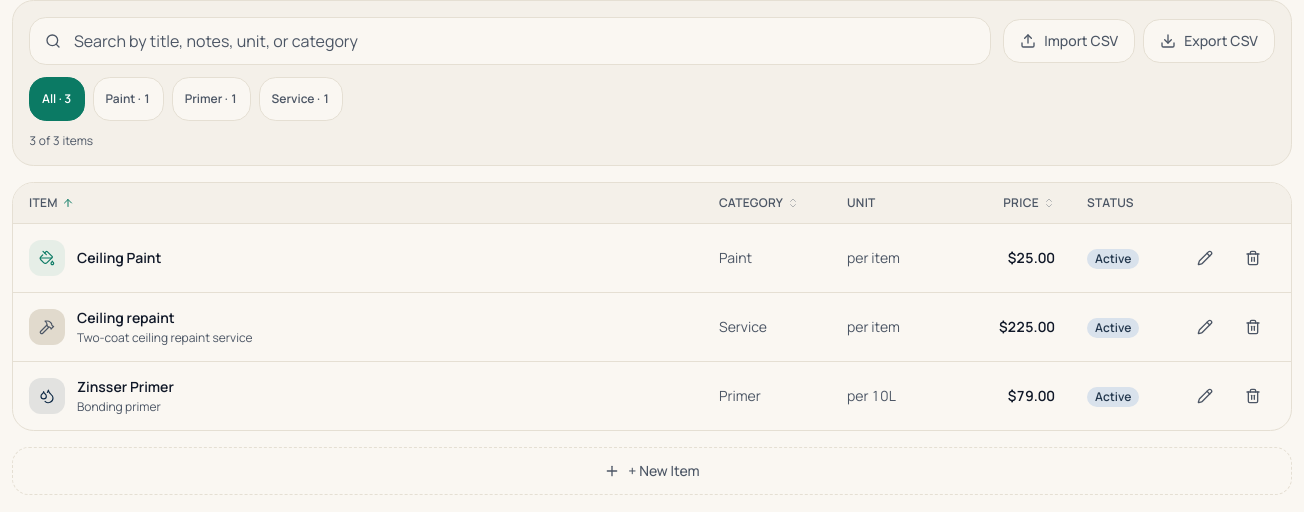
MaterialItemList › filters items by category button and search query
Expected: the text "3 of 3 items" is shown, left=29, top=132, right=93, bottom=149
Click the button "Service · 1" at [301, 99], box left=259, top=77, right=343, bottom=121
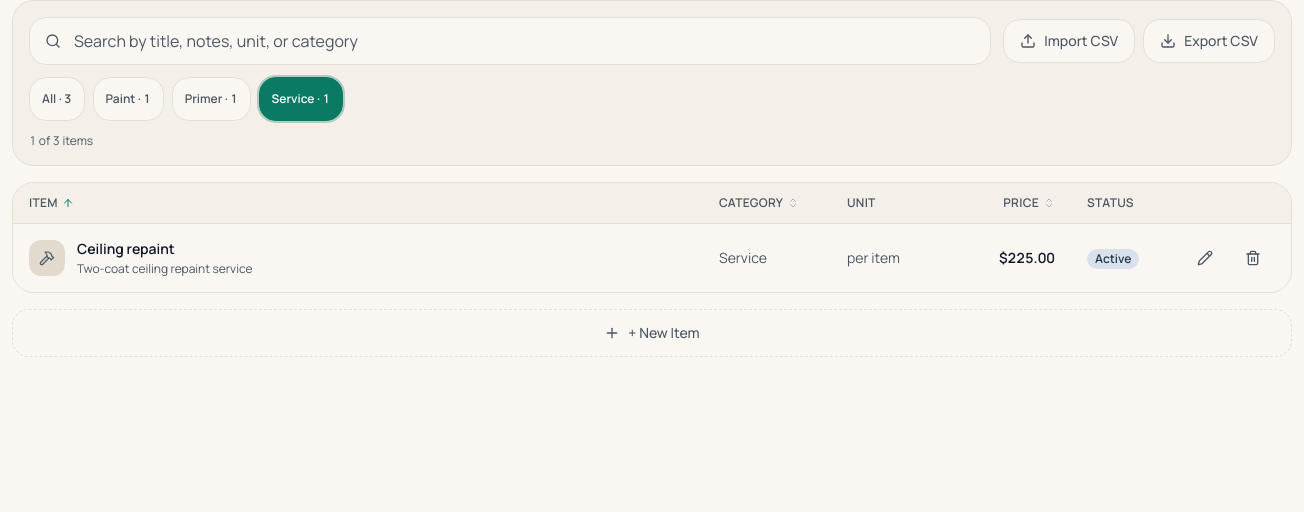
Expected: the text "Ceiling repaint" is shown, left=77, top=239, right=175, bottom=258
Now the text "1 of 3 items" is shown, box left=29, top=132, right=93, bottom=149
Now the text "Zinsser Primer" is gone
Click the button "All · 3" at [57, 99], box left=29, top=77, right=84, bottom=121
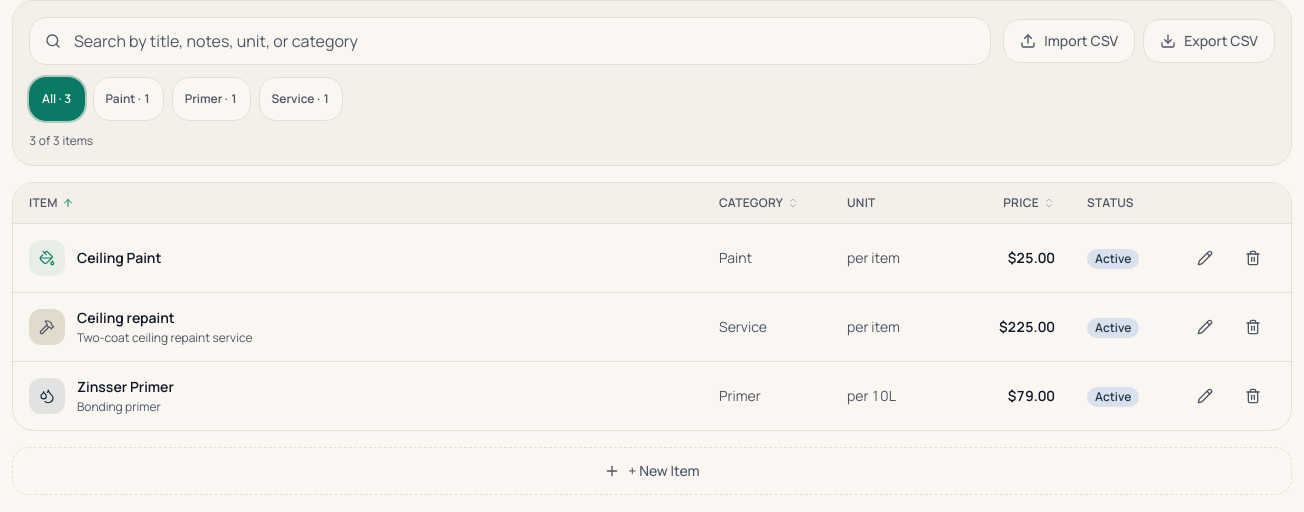
Type "primer" into the search field named "Search items" at [510, 41], box left=29, top=17, right=991, bottom=65
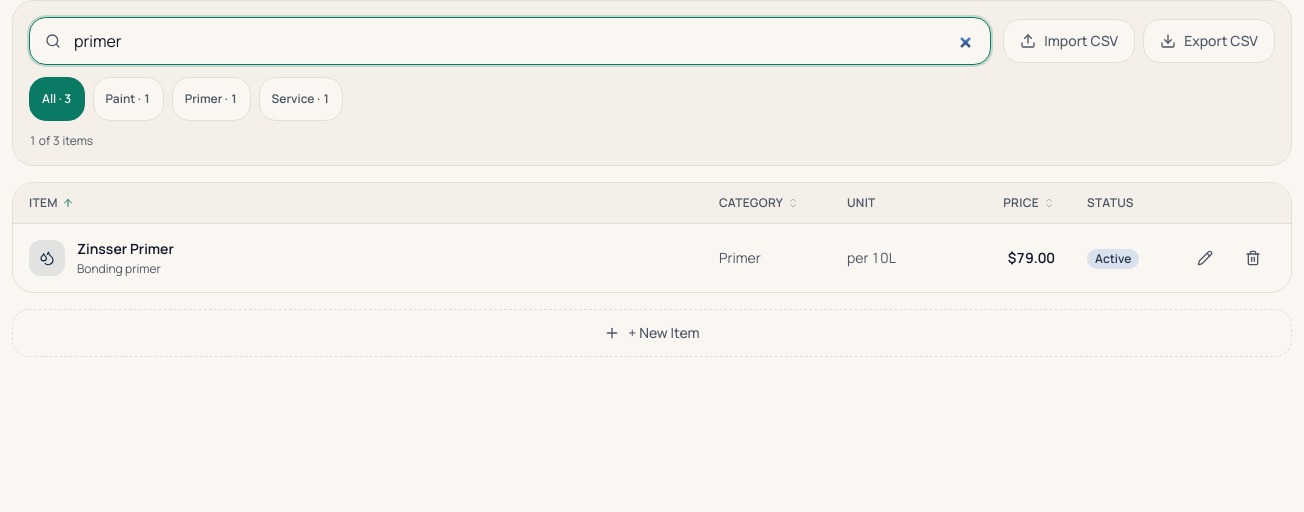
Now the text "Zinsser Primer" is shown, box left=77, top=239, right=174, bottom=259
Now the text "1 of 3 items" is shown, box left=29, top=132, right=93, bottom=149
Now the text "Ceiling repaint" is gone
Replace the text in the search field named "Search items" with "no-match" at [510, 41], box left=29, top=17, right=991, bottom=65
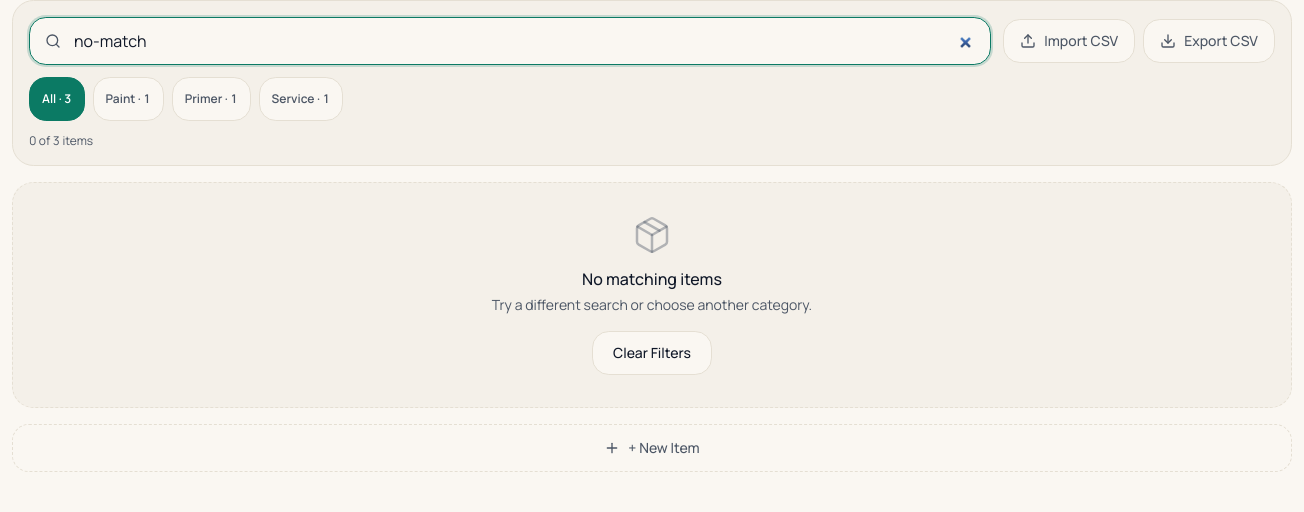
Now the text "No matching items" is shown, box left=582, top=268, right=722, bottom=290
Click the button "Clear Filters" at [652, 353], box left=592, top=331, right=712, bottom=375
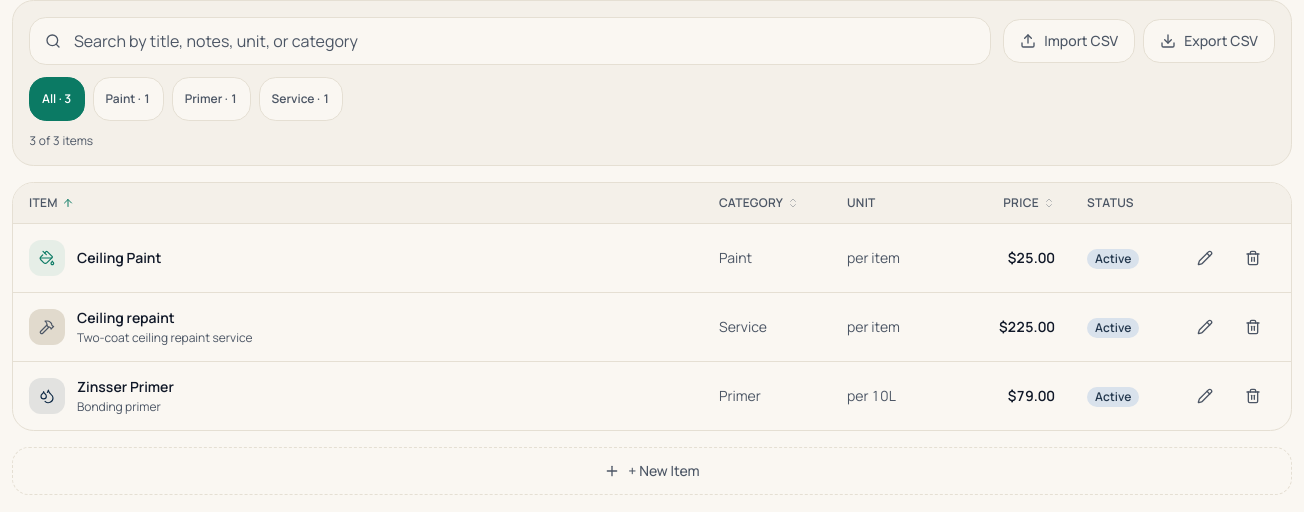
Now the text "3 of 3 items" is shown, box left=29, top=132, right=93, bottom=149
Now the text "Ceiling Paint" is shown, box left=77, top=248, right=161, bottom=268
Now the text "Zinsser Primer" is shown, box left=77, top=377, right=174, bottom=397
